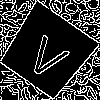V: (22, 27, 77, 83)
